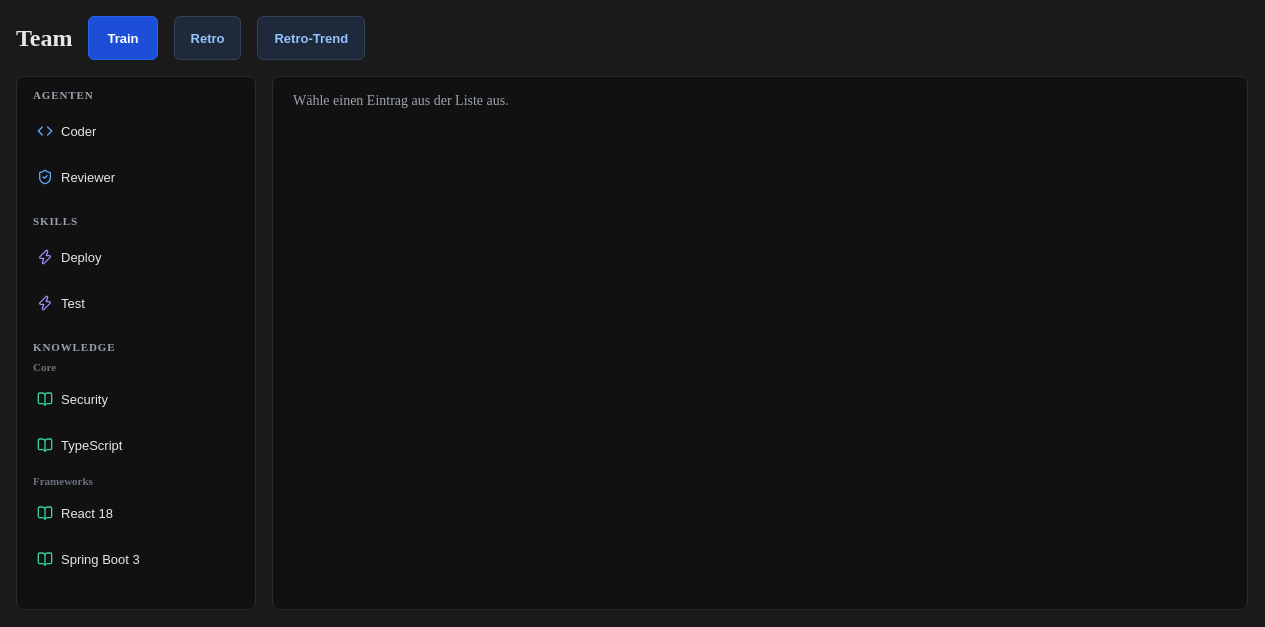
Test: TeamView — AC4: Selection via mouse › detail pane shows metadata badges after selection
Click the button "Coder" at (136,131), box [25,109,247,153]
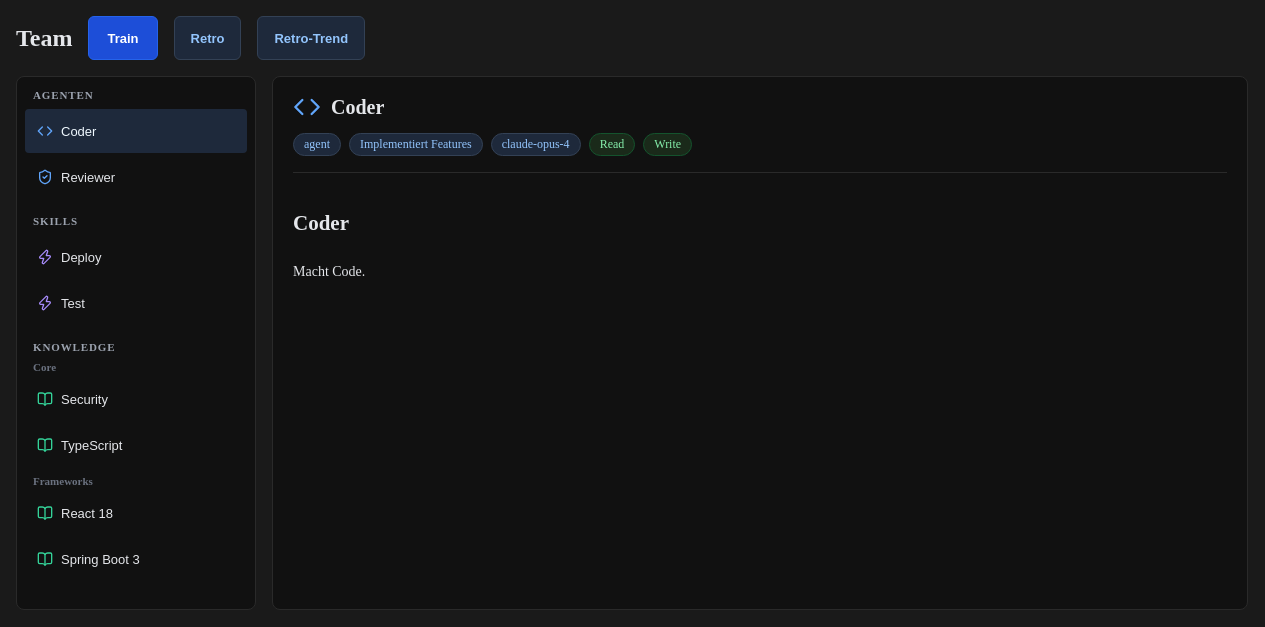
Check: the text "claude-opus-4" is shown, box [491,133,581,156]
Check: the text "Read" is shown, box [589,133,635,156]
Check: the text "Write" is shown, box [643,133,692,156]
